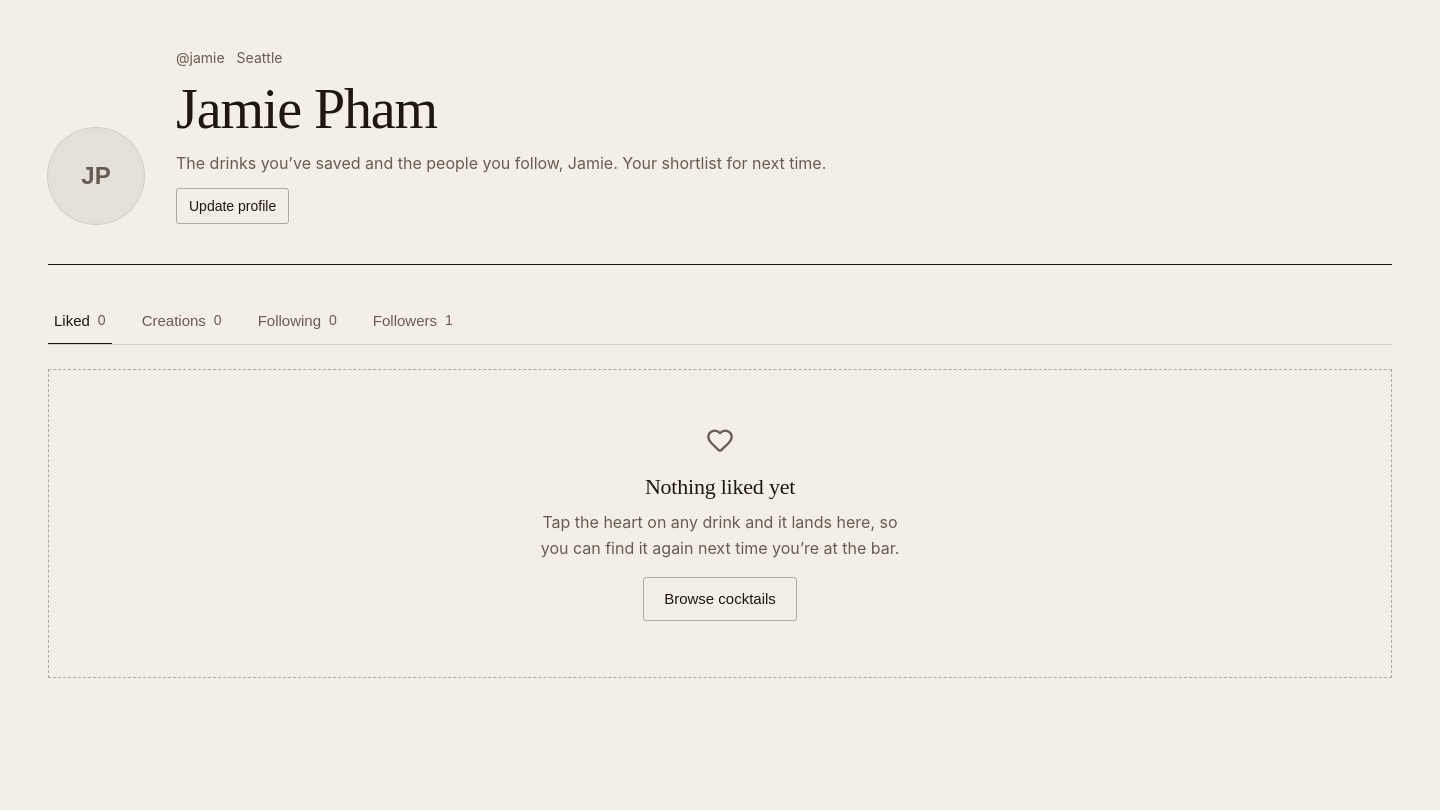
Profile — Following/Followers tabs › renders the Followers tab from the nested follower identity
Click the tab "Followers 1". click: (413, 321)
box: [367,297,459,345]
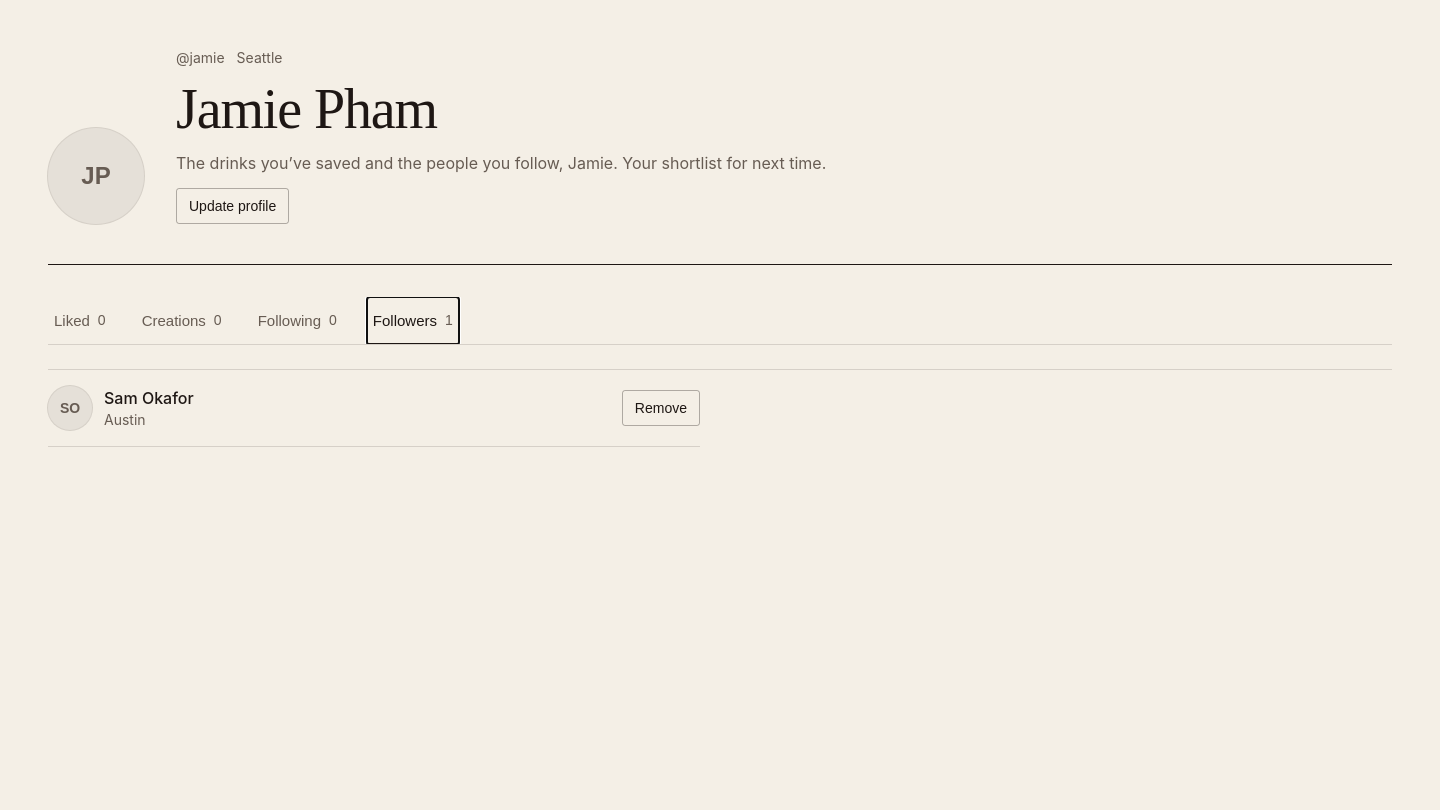
Expected: the text "Sam Okafor" is shown, [104,386,194,410]
